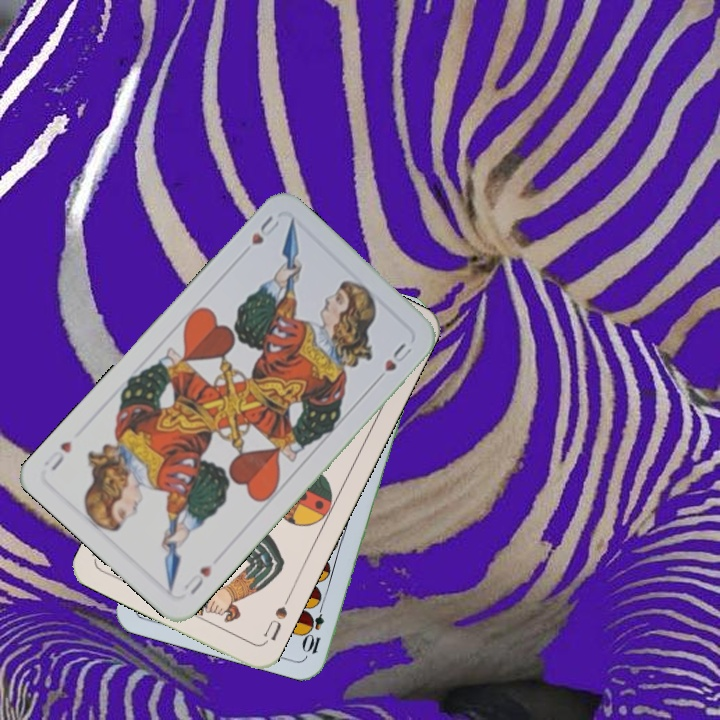E10: (301, 597, 327, 656)
HU: (247, 210, 282, 248), (179, 561, 215, 597)
SU: (259, 591, 293, 647)
